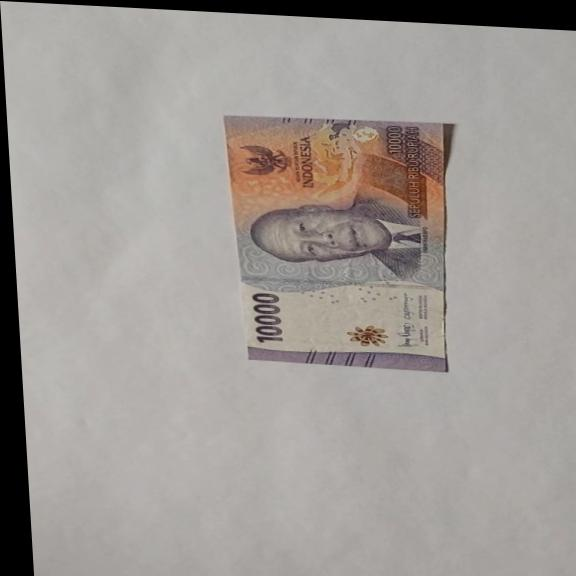Kertas: (222, 111, 463, 373), (249, 291, 286, 344)
